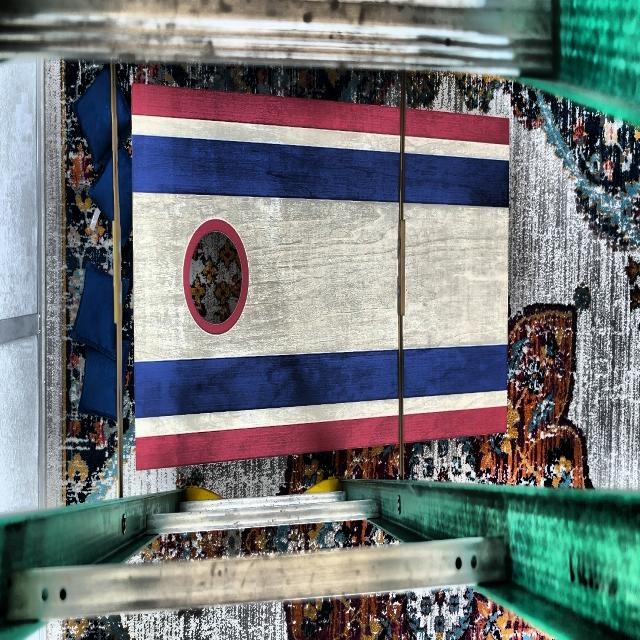blue-bean-bag: (74, 65, 131, 169), (70, 263, 130, 360), (86, 145, 132, 241), (78, 342, 128, 422)
board: (135, 120, 507, 430)
hole: (182, 218, 249, 335)
